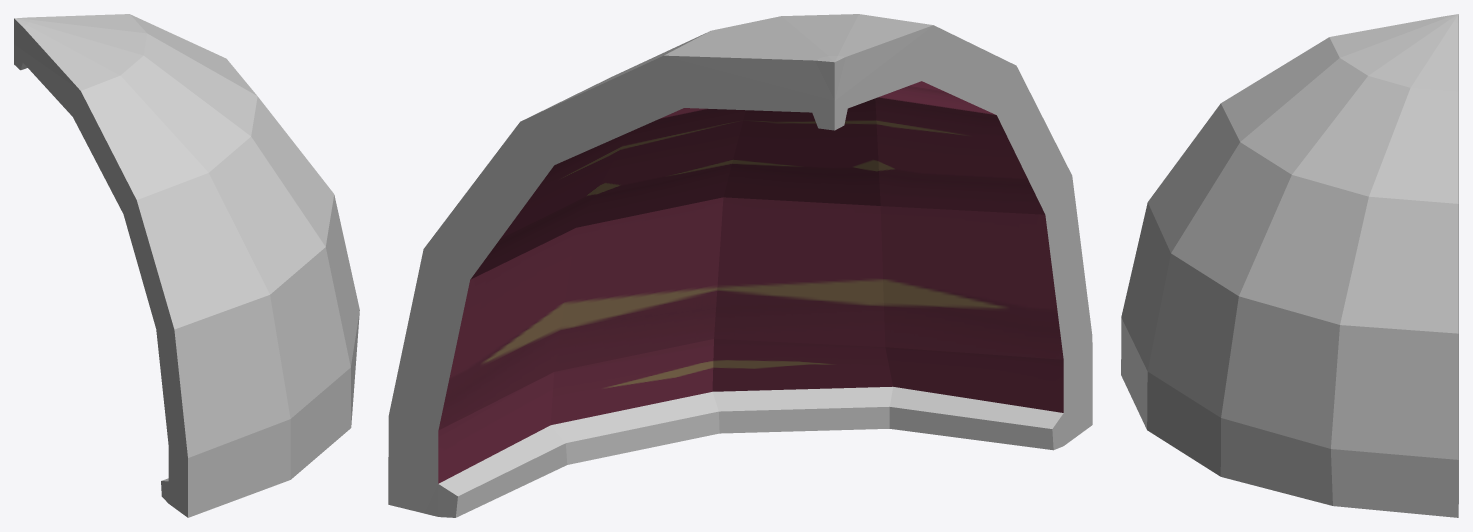
File: SM_Bld_Roof_S_Convex_Corner_Out_02.fbx
3 renders of one model, left to right at view 1: azimuth 30°, elevation 25°; view 2: azimuth 150°, elevation 25°; view 3: azimuth 270°, elevation 25°, orthographic. The views are drawn at different scales.
Visible parts, largest first — view 1: SM_Bld_Roof_S_Convex_Corner_Out_02; view 2: SM_Bld_Roof_S_Convex_Corner_Out_02; view 3: SM_Bld_Roof_S_Convex_Corner_Out_02.
Boxes of the visible parts, box(x1,y1,x2,y2) form: SM_Bld_Roof_S_Convex_Corner_Out_02: box(14, 14, 359, 517); SM_Bld_Roof_S_Convex_Corner_Out_02: box(388, 14, 1092, 517); SM_Bld_Roof_S_Convex_Corner_Out_02: box(1121, 14, 1458, 517).
Bounding box in the file's own units: 136 × 160 × 136.
